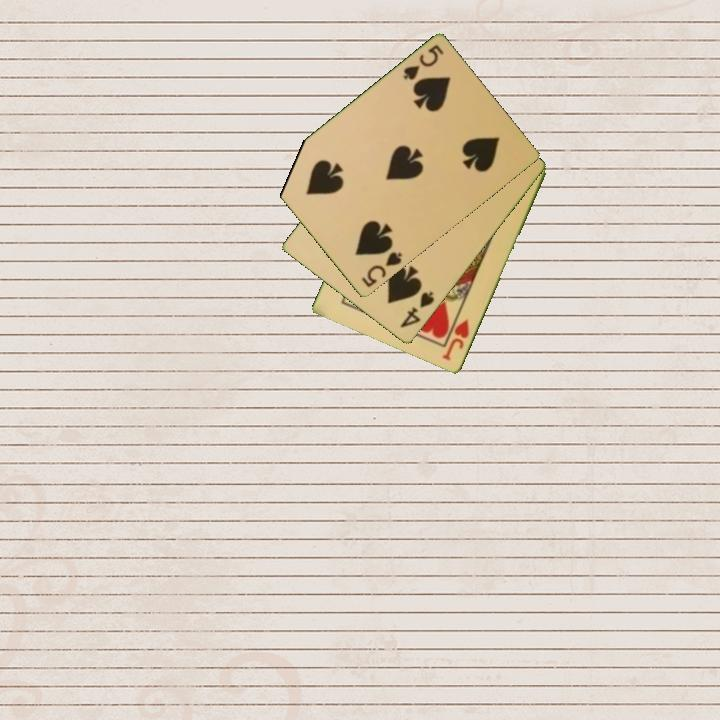4s: (396, 288, 437, 331)
5s: (399, 41, 447, 84), (358, 248, 405, 291)
Jh: (439, 316, 472, 364)
